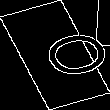O_W: (12, 26, 98, 84)
